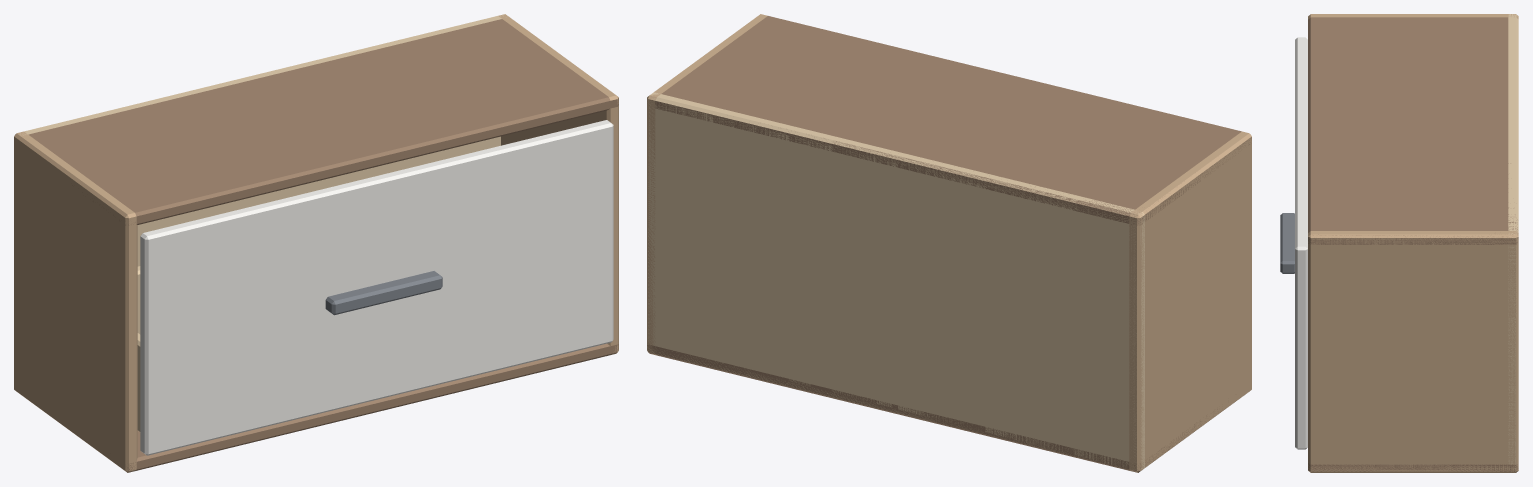
Rendered from Drawer_2x1.glb.
The picture shows the model from 3 angles, left to right: view 1: azimuth 30°, elevation 25°; view 2: azimuth 150°, elevation 25°; view 3: azimuth 270°, elevation 25°; orthographic projection. The views are drawn at different scales.
Parts seen in each view (by area): view 1: WallSysDrawer21_Drawer, WallSysDrawer21_Body; view 2: WallSysDrawer21_Body; view 3: WallSysDrawer21_Body, WallSysDrawer21_Drawer.
Boxes of the visible parts, x1,y1,x2,y2 form: WallSysDrawer21_Drawer: [137, 120, 613, 455]; WallSysDrawer21_Body: [14, 14, 618, 472]; WallSysDrawer21_Body: [647, 14, 1251, 472]; WallSysDrawer21_Body: [1308, 14, 1518, 472]; WallSysDrawer21_Drawer: [1280, 37, 1307, 449].
Size of the model in its own units: 0.8 by 0.4 by 0.3625.
